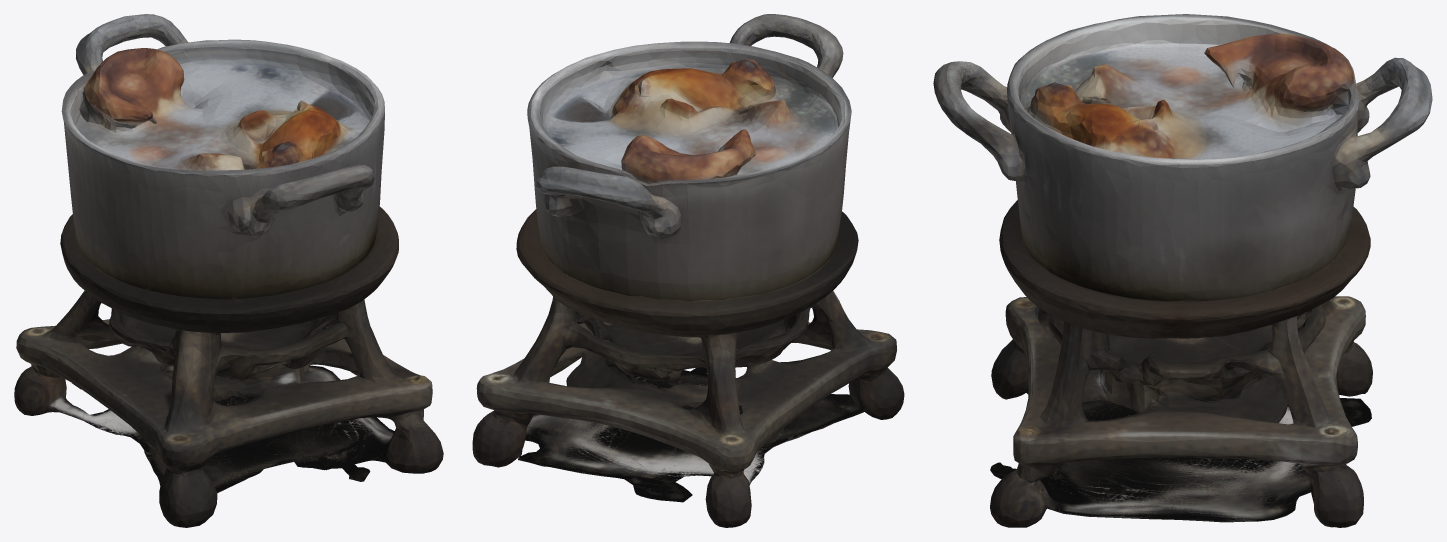
3 views of the same model, side by side, from view 1: azimuth 30°, elevation 25°; view 2: azimuth 150°, elevation 25°; view 3: azimuth 270°, elevation 25° (orthographic). The views are drawn at different scales.
Visible parts, largest first — view 1: world.005; view 2: world.005; view 3: world.005.
Part boxes in pixels (left/top/right/bottom): world.005: left=14, top=14, right=443, bottom=527; world.005: left=472, top=14, right=904, bottom=527; world.005: left=933, top=14, right=1432, bottom=527.
Size of the model in its own units: 51.67 by 58.58 by 68.79.
Materials: 1 (1 with a texture image).
